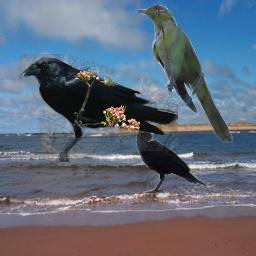Crow: (16, 54, 178, 162), (135, 122, 207, 193)
Cuckoo: (138, 4, 236, 144)
